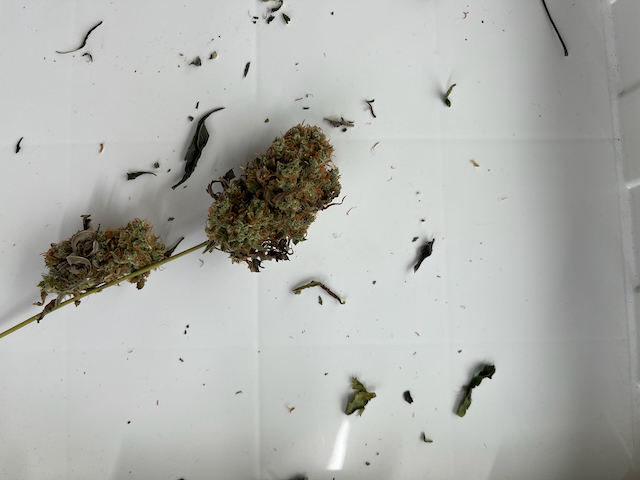Bud: (202, 121, 341, 275), (40, 215, 164, 309)
Stem: (0, 304, 76, 341), (157, 232, 196, 275)
